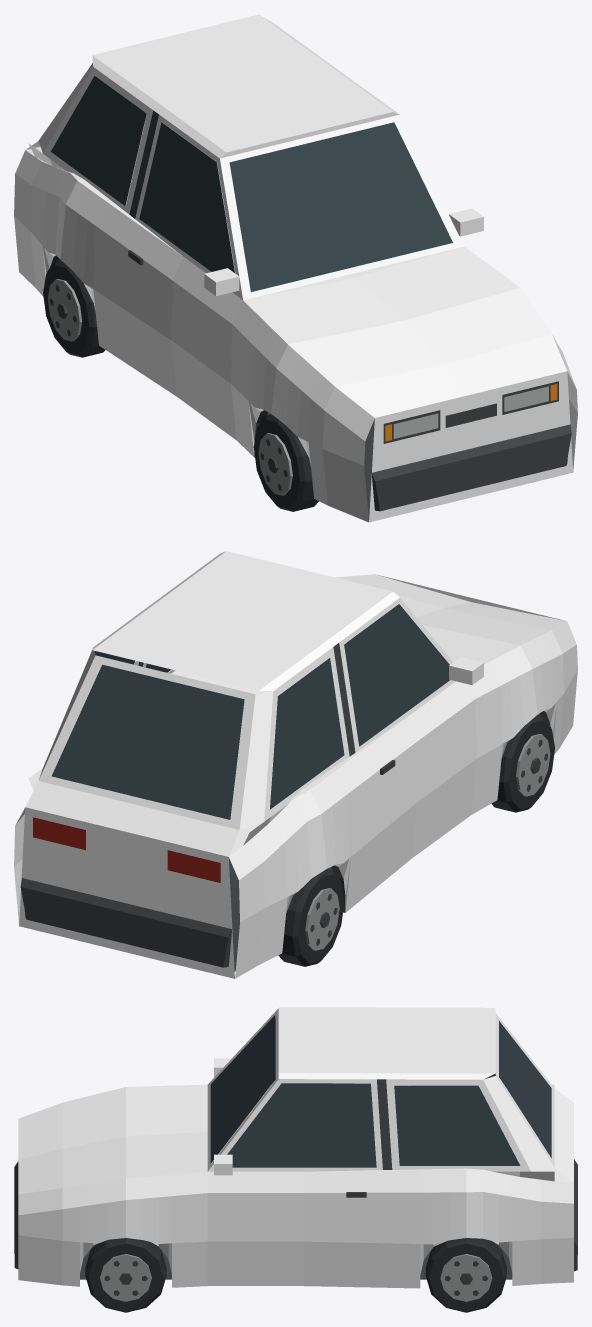
The model's file is hoshino_yoake_ii.glb.
3 views of the same model, one above another, from view 1: azimuth 30°, elevation 25°; view 2: azimuth 150°, elevation 25°; view 3: azimuth 270°, elevation 25° (orthographic). The views are drawn at different scales.
Parts seen in each view (by area): view 1: hoshino_yoake_ii; view 2: hoshino_yoake_ii; view 3: hoshino_yoake_ii.
Part boxes in pixels (box(x1,y1,x2,y2)): hoshino_yoake_ii: box(14, 14, 577, 522); hoshino_yoake_ii: box(14, 551, 577, 978); hoshino_yoake_ii: box(14, 1007, 577, 1312).
Bounding box in the file's own units: 1.6 × 1.58 × 3.61.
8 materials, 1 textured.
